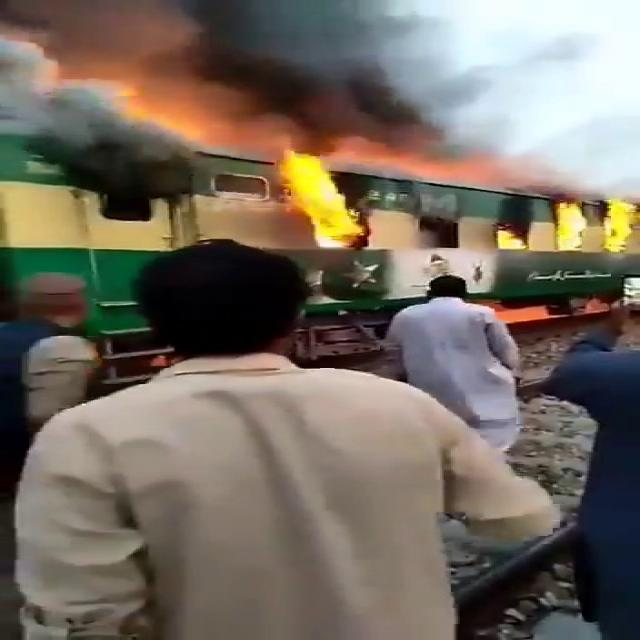Fire: (275, 150, 367, 251), (555, 201, 585, 251), (604, 200, 627, 254)
Smoke: (0, 0, 489, 184)
